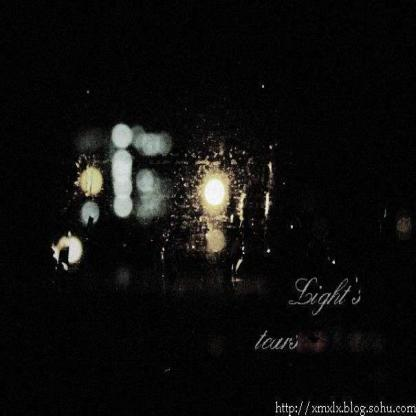other: (111, 127, 134, 216), (203, 176, 224, 212), (77, 168, 99, 195), (61, 235, 81, 263)
